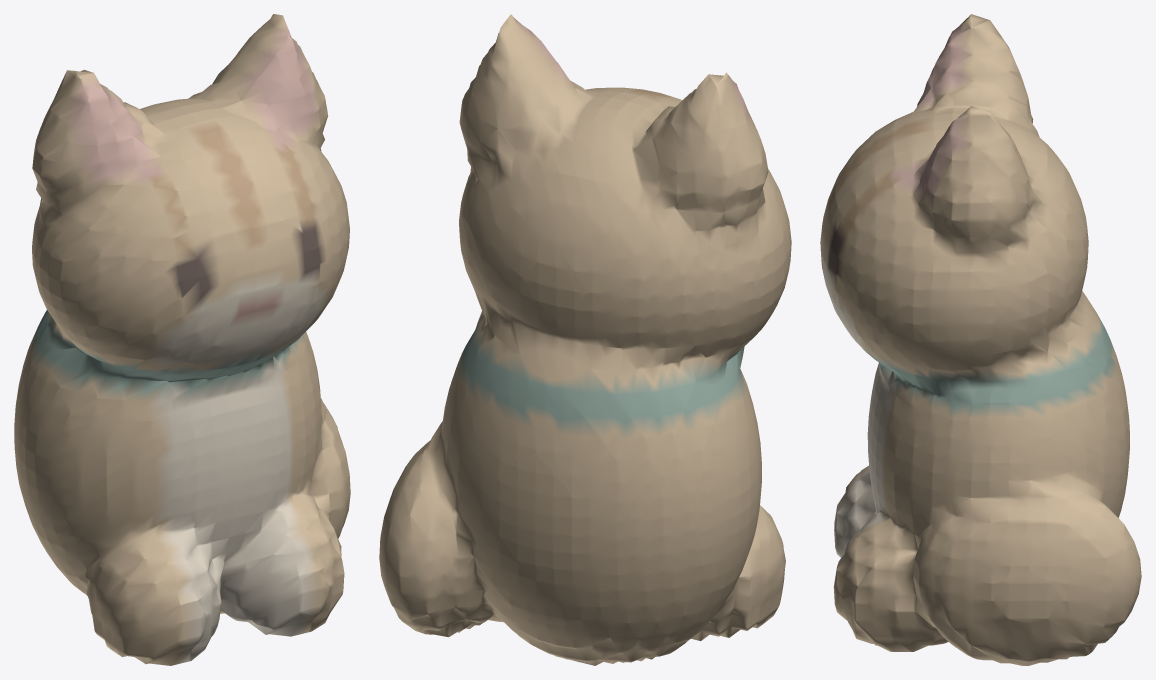
Rendered from sample-cat.glb.
3 views of the same model, side by side, from view 1: azimuth 30°, elevation 25°; view 2: azimuth 150°, elevation 25°; view 3: azimuth 270°, elevation 25° (orthographic). The views are drawn at different scales.
Parts seen in each view (by area): view 1: Demo kitten; view 2: Demo kitten; view 3: Demo kitten.
Boxes of the visible parts, bbox=[...] form: Demo kitten: bbox=[14, 14, 350, 665]; Demo kitten: bbox=[379, 14, 791, 665]; Demo kitten: bbox=[820, 14, 1141, 665].
Size of the model in its own units: 0.0491 by 0.0843 by 0.0449.
